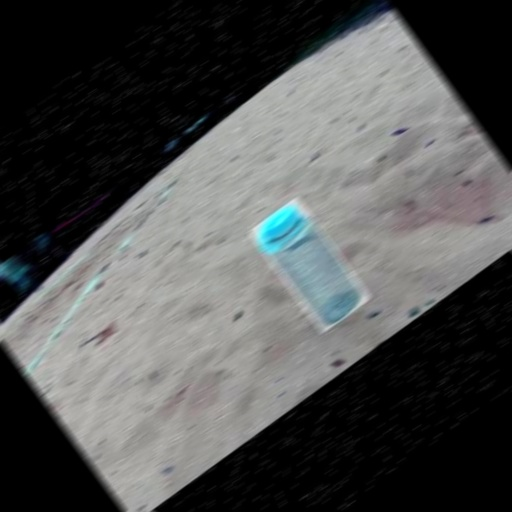bottle: (249, 196, 372, 334)
